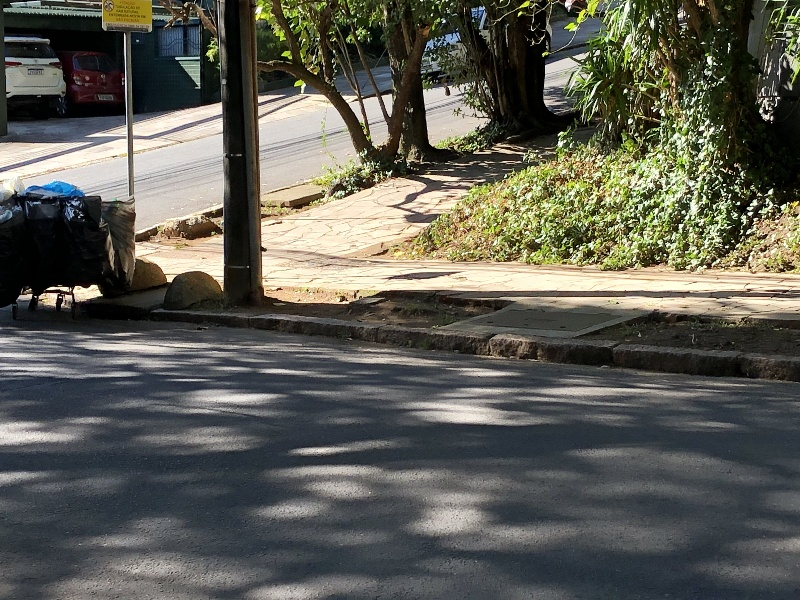v4: (148, 264, 800, 414)
